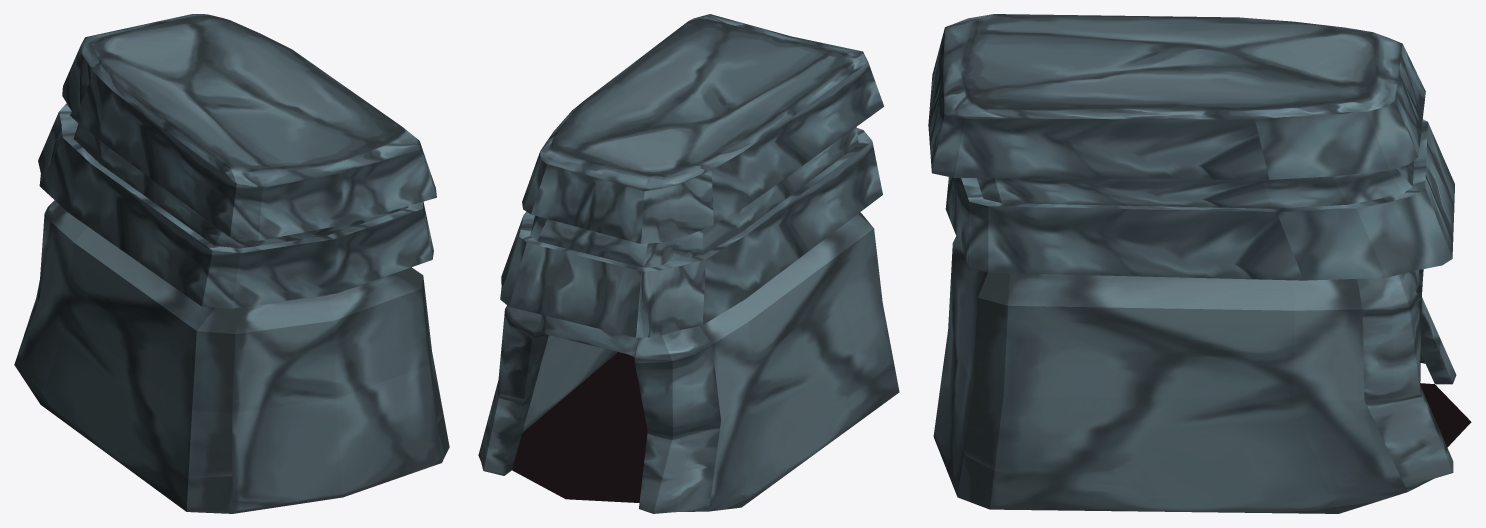
The model's file is cave.fbx.
3 views of the same model, side by side, from view 1: azimuth 30°, elevation 25°; view 2: azimuth 150°, elevation 25°; view 3: azimuth 270°, elevation 25° (orthographic). The views are drawn at different scales.
Parts seen in each view (by area): view 1: 立方體; view 2: 立方體; view 3: 立方體.
Part boxes in pixels (box(x1,y1,x2,y2)): 立方體: box(14, 14, 449, 513); 立方體: box(478, 14, 899, 513); 立方體: box(928, 14, 1471, 513).
Size of the model in its own units: 740 by 909 by 1164.
2 materials, 1 textured.
